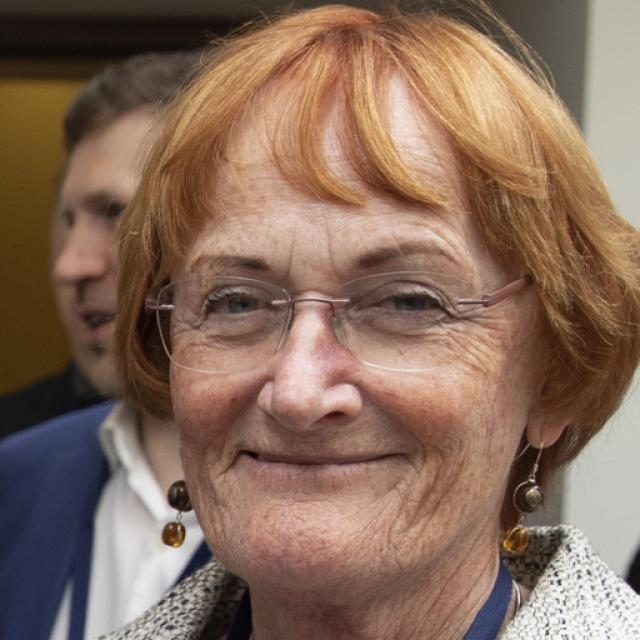happy: (162, 100, 536, 579)
